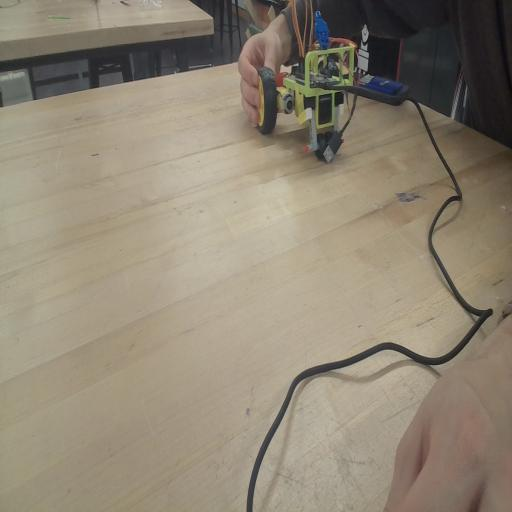blue LEGO minifig: (311, 6, 333, 50)
